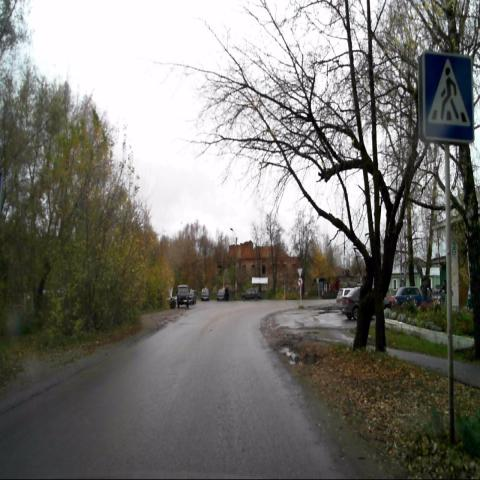5_19_1: (423, 51, 474, 142)
